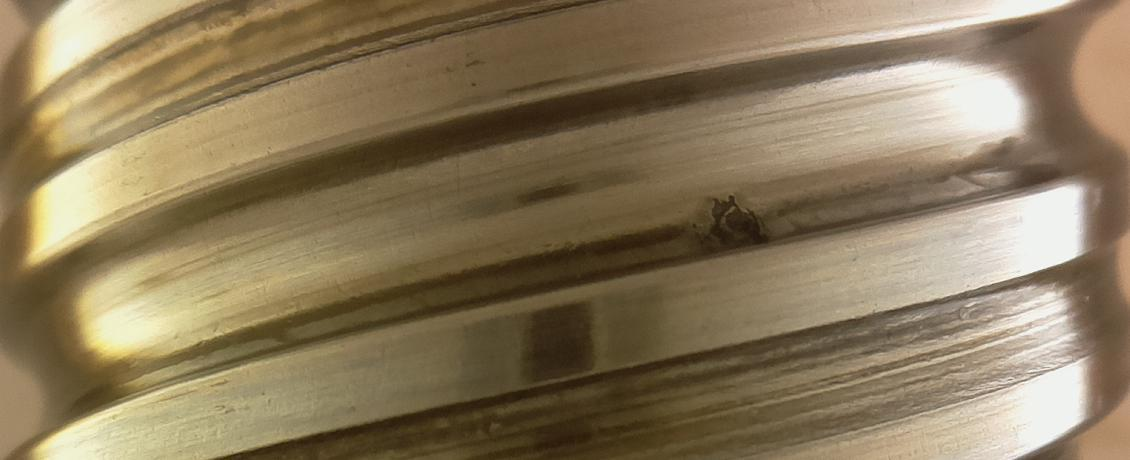pitting: (709, 196, 768, 248)
